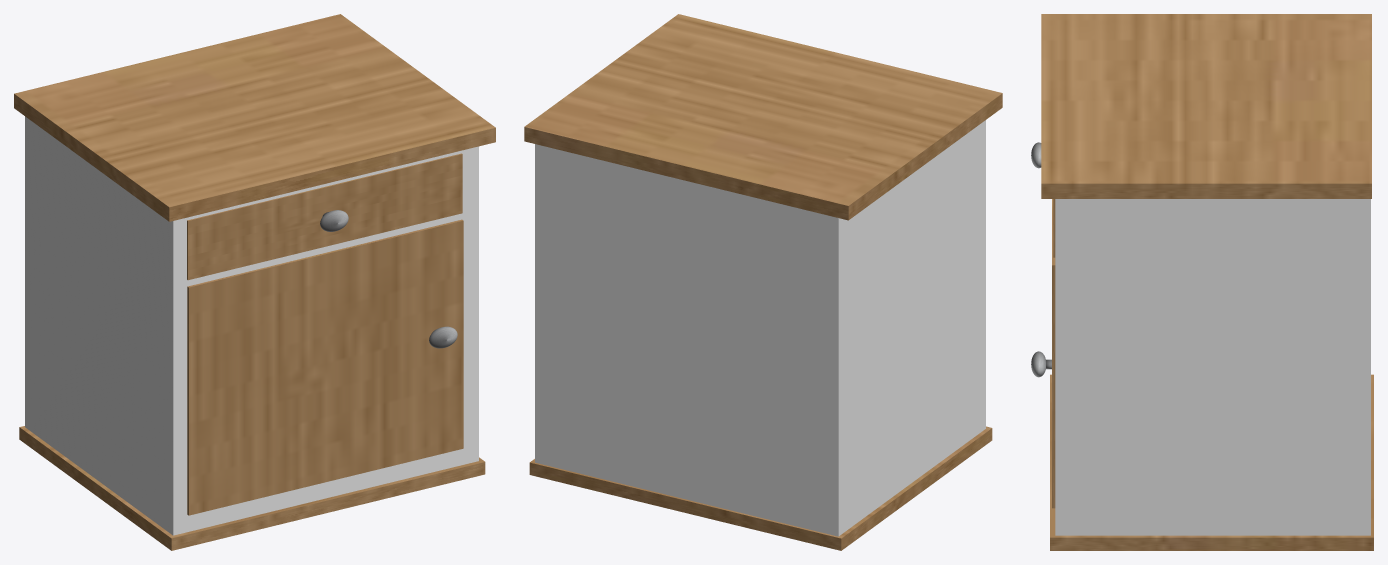
The model's file is Bedside Cabinet (right).fbx.
3 renders of one model, left to right at view 1: azimuth 30°, elevation 25°; view 2: azimuth 150°, elevation 25°; view 3: azimuth 270°, elevation 25°, orthographic. The views are drawn at different scales.
Parts seen in each view (by area): view 1: Base, Door 1, Counter, Door 2, Base.001; view 2: Base, Counter, Base.001; view 3: Base, Counter, Base.001, Door 1.
Part boxes in pixels (x1,y1,x2,y2): Base: [25, 116, 478, 535]; Door 1: [187, 219, 463, 515]; Counter: [14, 14, 495, 221]; Door 2: [187, 153, 462, 280]; Base.001: [19, 426, 485, 550]; Base: [535, 120, 985, 536]; Counter: [524, 14, 1002, 220]; Base.001: [529, 426, 992, 550]; Base: [1055, 199, 1370, 535]; Counter: [1041, 14, 1371, 198]; Base.001: [1050, 374, 1373, 550]; Door 1: [1052, 199, 1055, 508].
Size of the model in its own units: 0.6189 by 0.6306 by 0.5284.
Materials: 7 (7 with a texture image).
